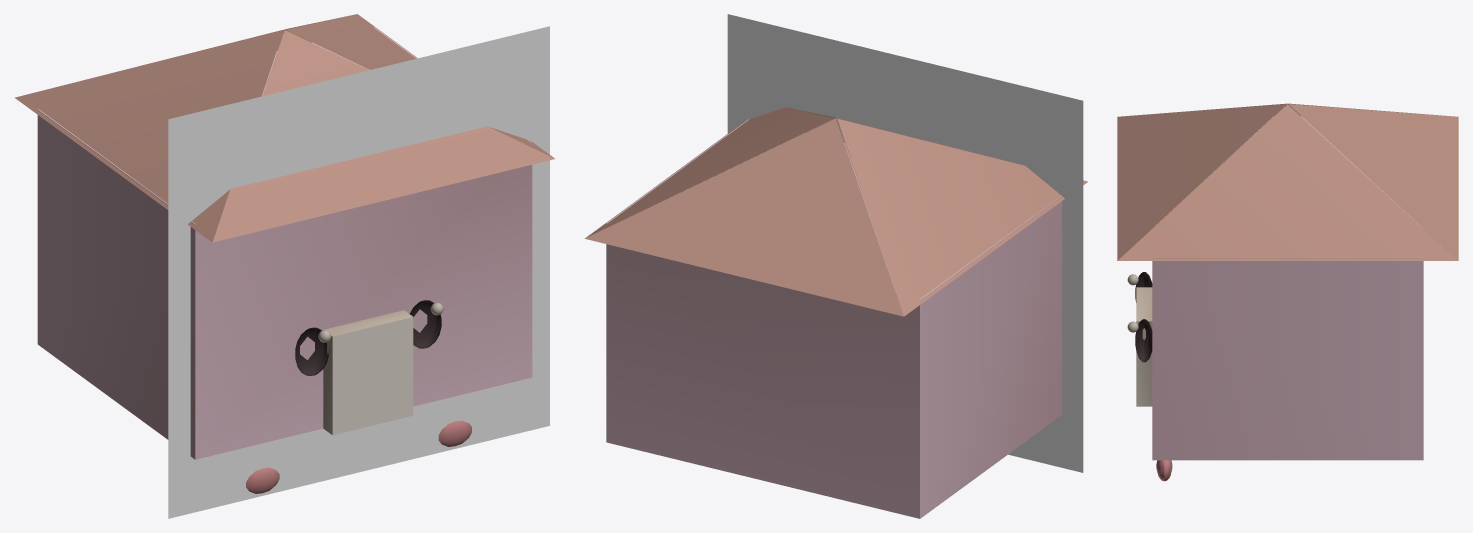
The picture shows the model from 3 angles, left to right: view 1: azimuth 30°, elevation 25°; view 2: azimuth 150°, elevation 25°; view 3: azimuth 270°, elevation 25°; orthographic projection. The views are drawn at different scales.
Parts seen in each view (by area): view 1: pet_pf3763663; view 2: pet_pf3763663; view 3: pet_pf3763663.
Part boxes in pixels (x1=…): pet_pf3763663: x1=15, y1=14, x2=554, y2=518; pet_pf3763663: x1=584, y1=14, x2=1087, y2=518; pet_pf3763663: x1=1117, y1=103, x2=1458, y2=481.
Bounding box in the file's own units: 0.476 × 0.476 × 0.4277.
